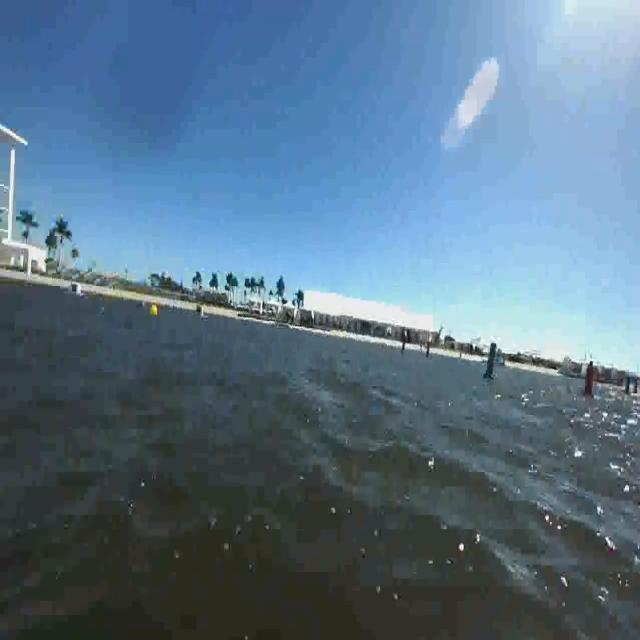green-column-buoy: (484, 337, 498, 384)
red-column-buoy: (583, 362, 598, 400)
yellow-buoy: (150, 304, 158, 318)
